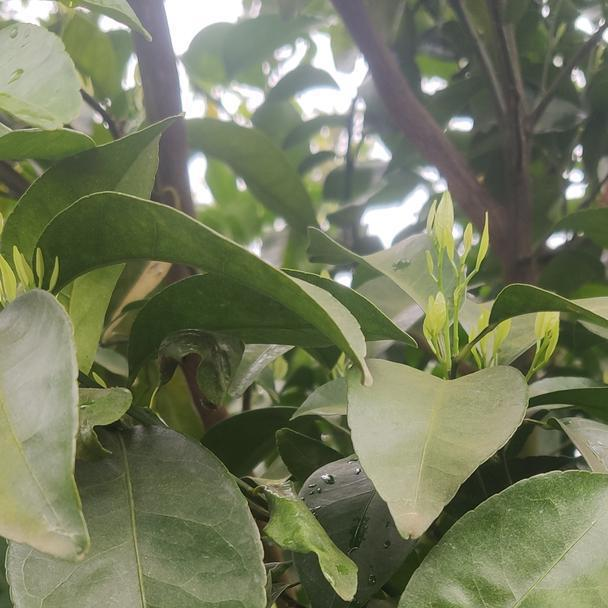shoot: (444, 217, 497, 296), (416, 193, 459, 282), (522, 307, 567, 378), (423, 295, 454, 368)
